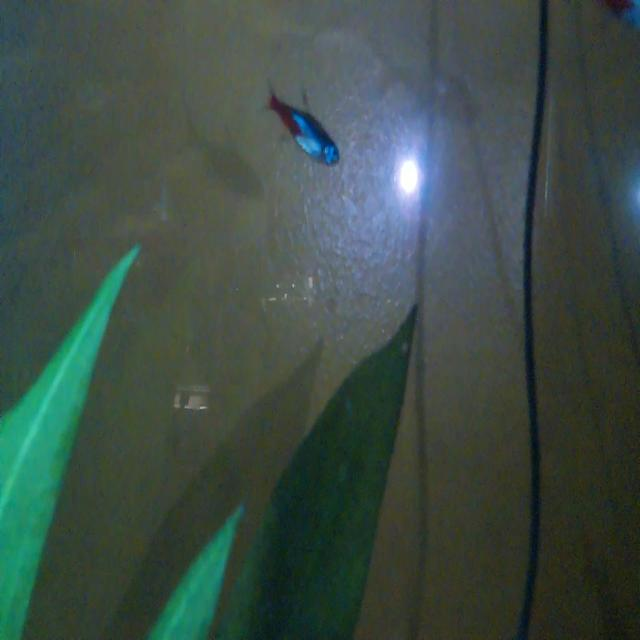fish: (255, 80, 351, 178)
